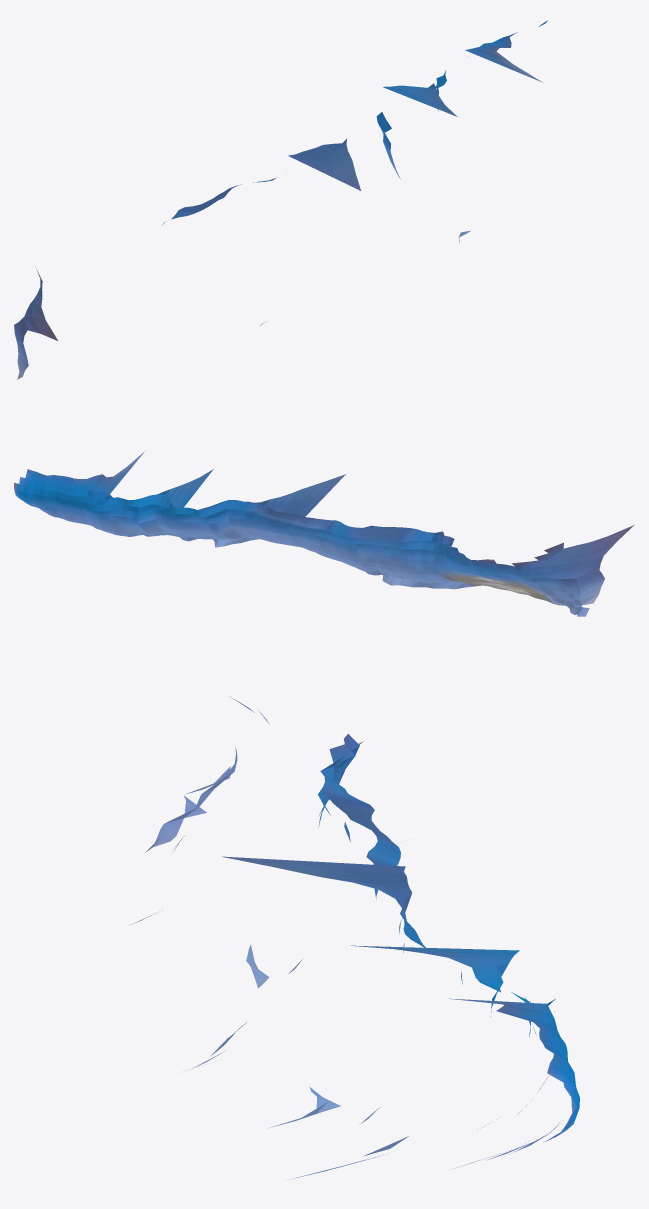
The model's file is observed-surface.glb.
3 renders of one model, top to bottom at view 1: azimuth 30°, elevation 25°; view 2: azimuth 150°, elevation 25°; view 3: azimuth 270°, elevation 25°, orthographic. The views are drawn at different scales.
Visible parts, largest first — view 1: geometry_0; view 2: geometry_0; view 3: geometry_0.
Part boxes in pixels (x1,y1,x2,y2): geometry_0: [14, 20, 547, 379]; geometry_0: [14, 451, 634, 616]; geometry_0: [131, 696, 579, 1179].
Size of the model in its own units: 0.6662 by 0.1366 by 0.2968.
Materials: 1 (1 with a texture image).
